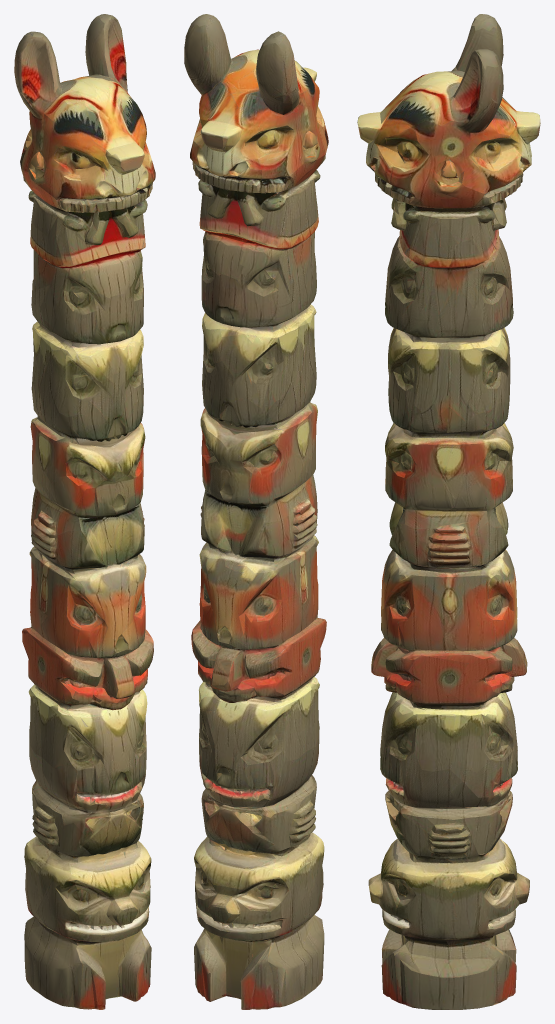
Rendered from tutengzhu.glb.
3 renders of one model, left to right at view 1: azimuth 30°, elevation 25°; view 2: azimuth 150°, elevation 25°; view 3: azimuth 270°, elevation 25°, orthographic. The views are drawn at different scales.
Size of the model in its own units: 0.2304 by 1.9 by 0.3304.
Materials: 1 (1 with a texture image).
